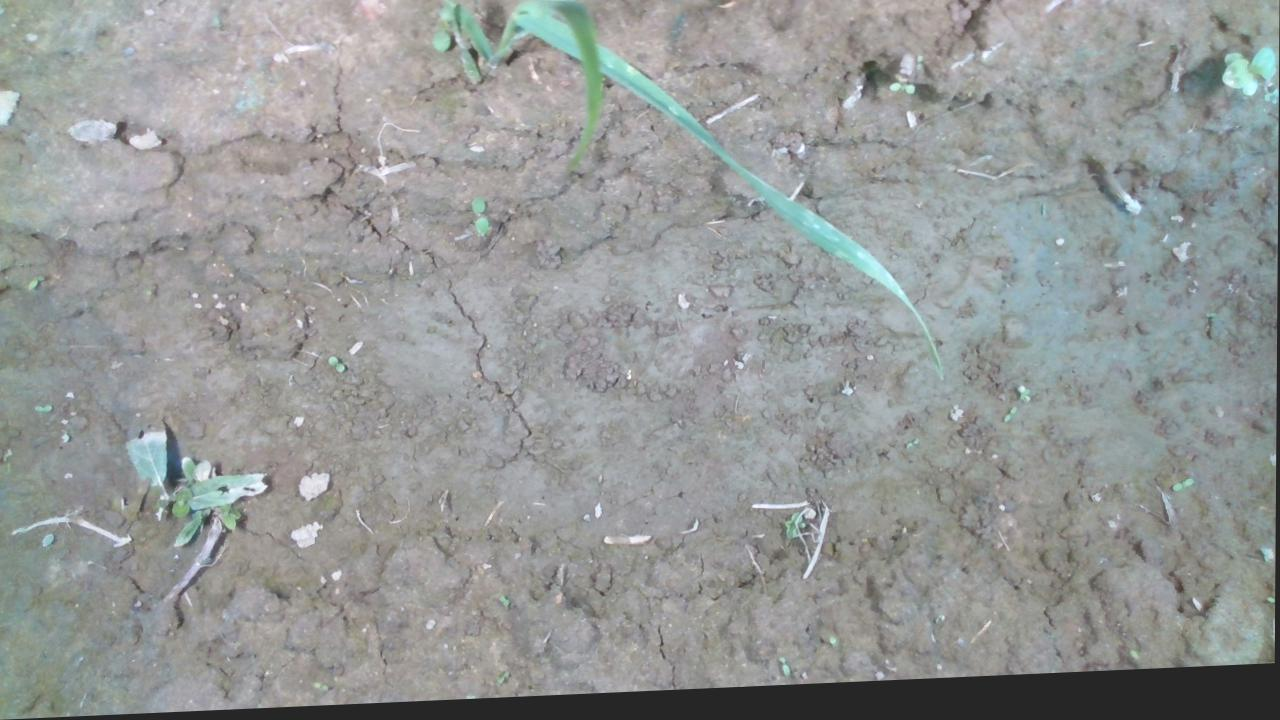weed: (458, 198, 495, 240), (320, 354, 359, 376), (1016, 389, 1046, 410), (835, 391, 861, 403)
